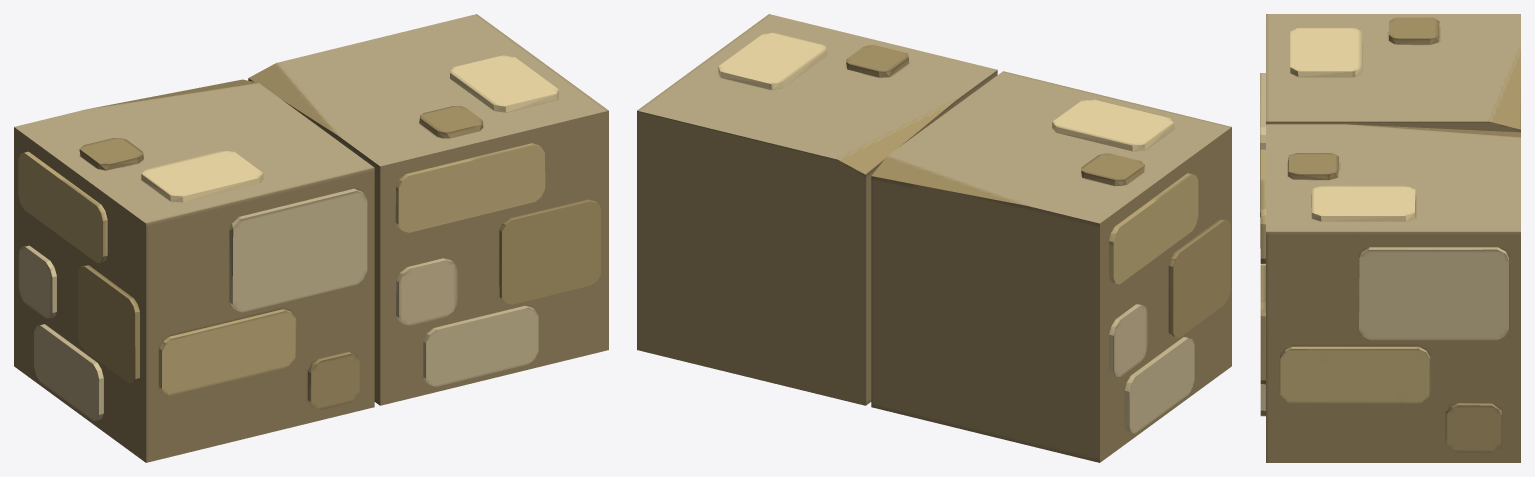
The model's file is Stone2set.fbx.
The picture shows the model from 3 angles, left to right: view 1: azimuth 30°, elevation 25°; view 2: azimuth 150°, elevation 25°; view 3: azimuth 270°, elevation 25°; orthographic projection. The views are drawn at different scales.
Visible parts, largest first — view 1: Stone 3, Stone 4; view 2: Stone 3, Stone 4; view 3: Stone 4, Stone 3.
Part boxes in pixels (<box>): Stone 3: <box>14,79,374,462</box>; Stone 4: <box>248,14,608,405</box>; Stone 3: <box>871,71,1231,462</box>; Stone 4: <box>637,14,997,405</box>; Stone 4: <box>1260,124,1520,462</box>; Stone 3: <box>1260,14,1520,248</box>.
Bounding box in the file's own units: 70 × 34.69 × 34.65.
